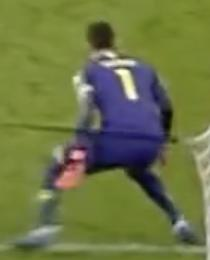goalkeeper: (11, 11, 210, 260)
